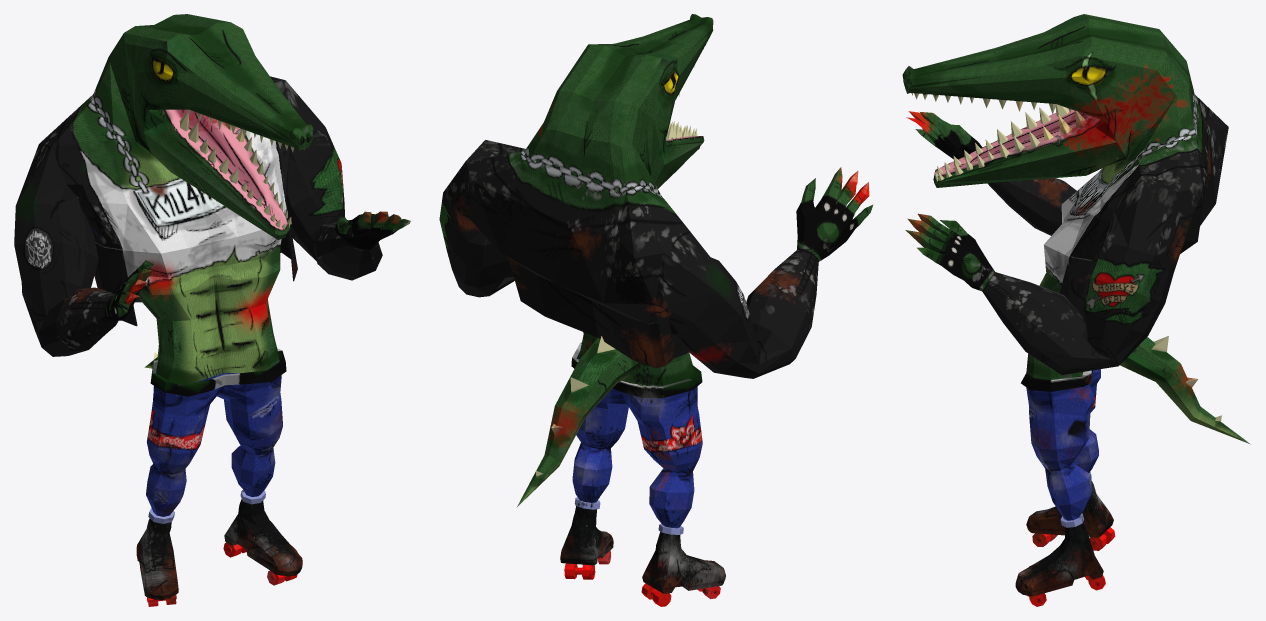
The model's file is cocodrilaBonesSelect_000005.obj.
3 views of the same model, side by side, from view 1: azimuth 30°, elevation 25°; view 2: azimuth 150°, elevation 25°; view 3: azimuth 270°, elevation 25° (orthographic).
Visible parts, largest first — view 1: Crocodile.002_Cylinder.002; view 2: Crocodile.002_Cylinder.002; view 3: Crocodile.002_Cylinder.002.
Boxes of the visible parts, box(x1,y1,x2,y2) form: Crocodile.002_Cylinder.002: box(14, 14, 410, 606); Crocodile.002_Cylinder.002: box(439, 14, 872, 606); Crocodile.002_Cylinder.002: box(902, 14, 1250, 606).
Size of the model in its own units: 4.23 by 6.78 by 3.93.
